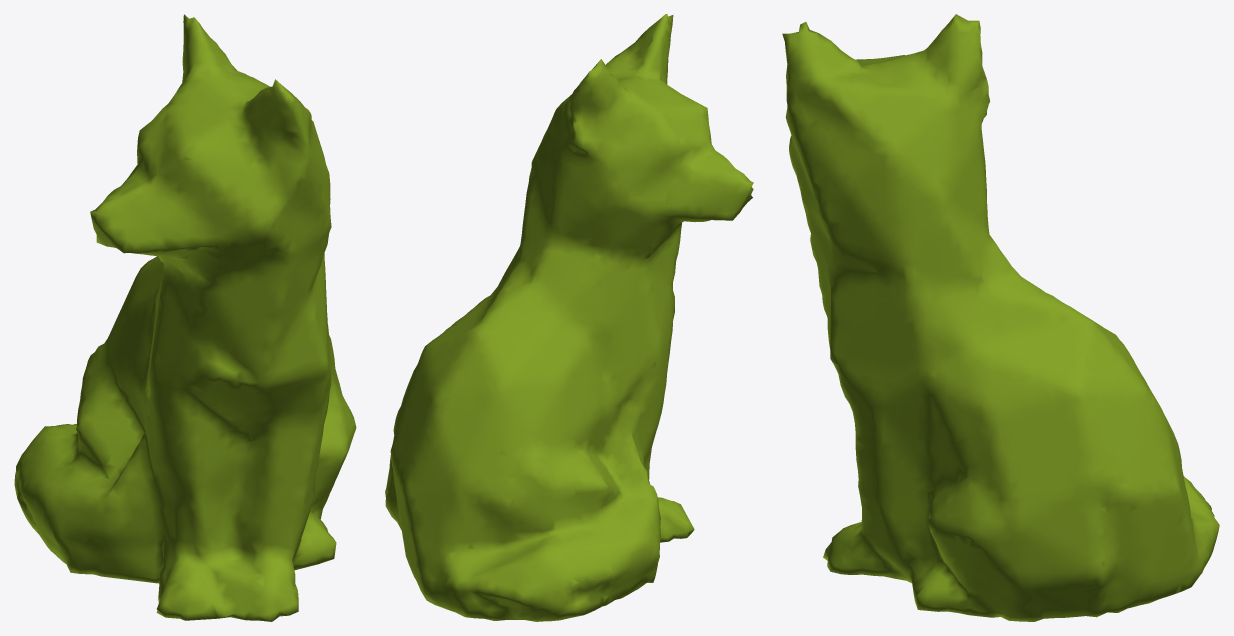
The model's file is model_decimated.obj.
3 renders of one model, left to right at view 1: azimuth 30°, elevation 25°; view 2: azimuth 150°, elevation 25°; view 3: azimuth 270°, elevation 25°, orthographic. The views are drawn at different scales.
Size of the model in its own units: 63.73 by 107 by 78.43.
